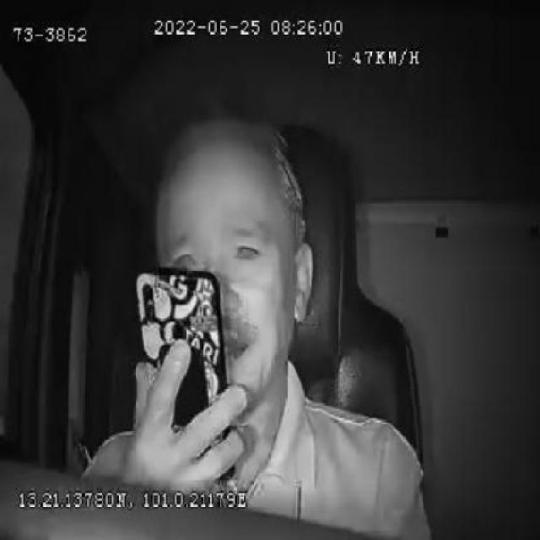phone: (134, 271, 225, 480)
